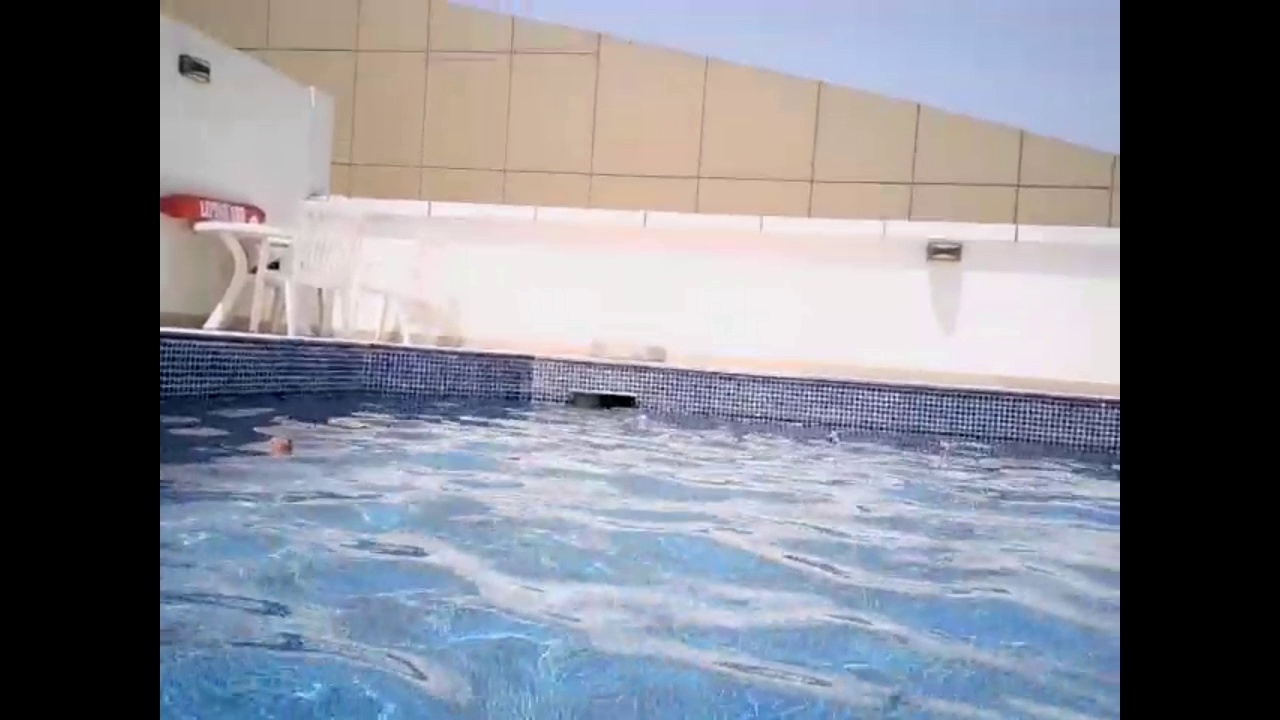debris: (264, 432, 299, 465), (822, 426, 839, 450), (633, 411, 650, 434)
